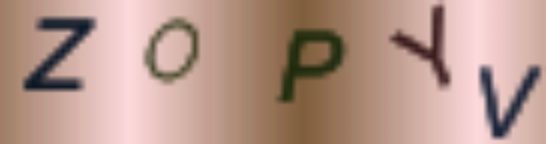O: (143, 16, 202, 87)
P: (272, 26, 349, 107)
V: (475, 59, 537, 144)
Y: (388, 3, 458, 89)
Z: (18, 12, 98, 97)
